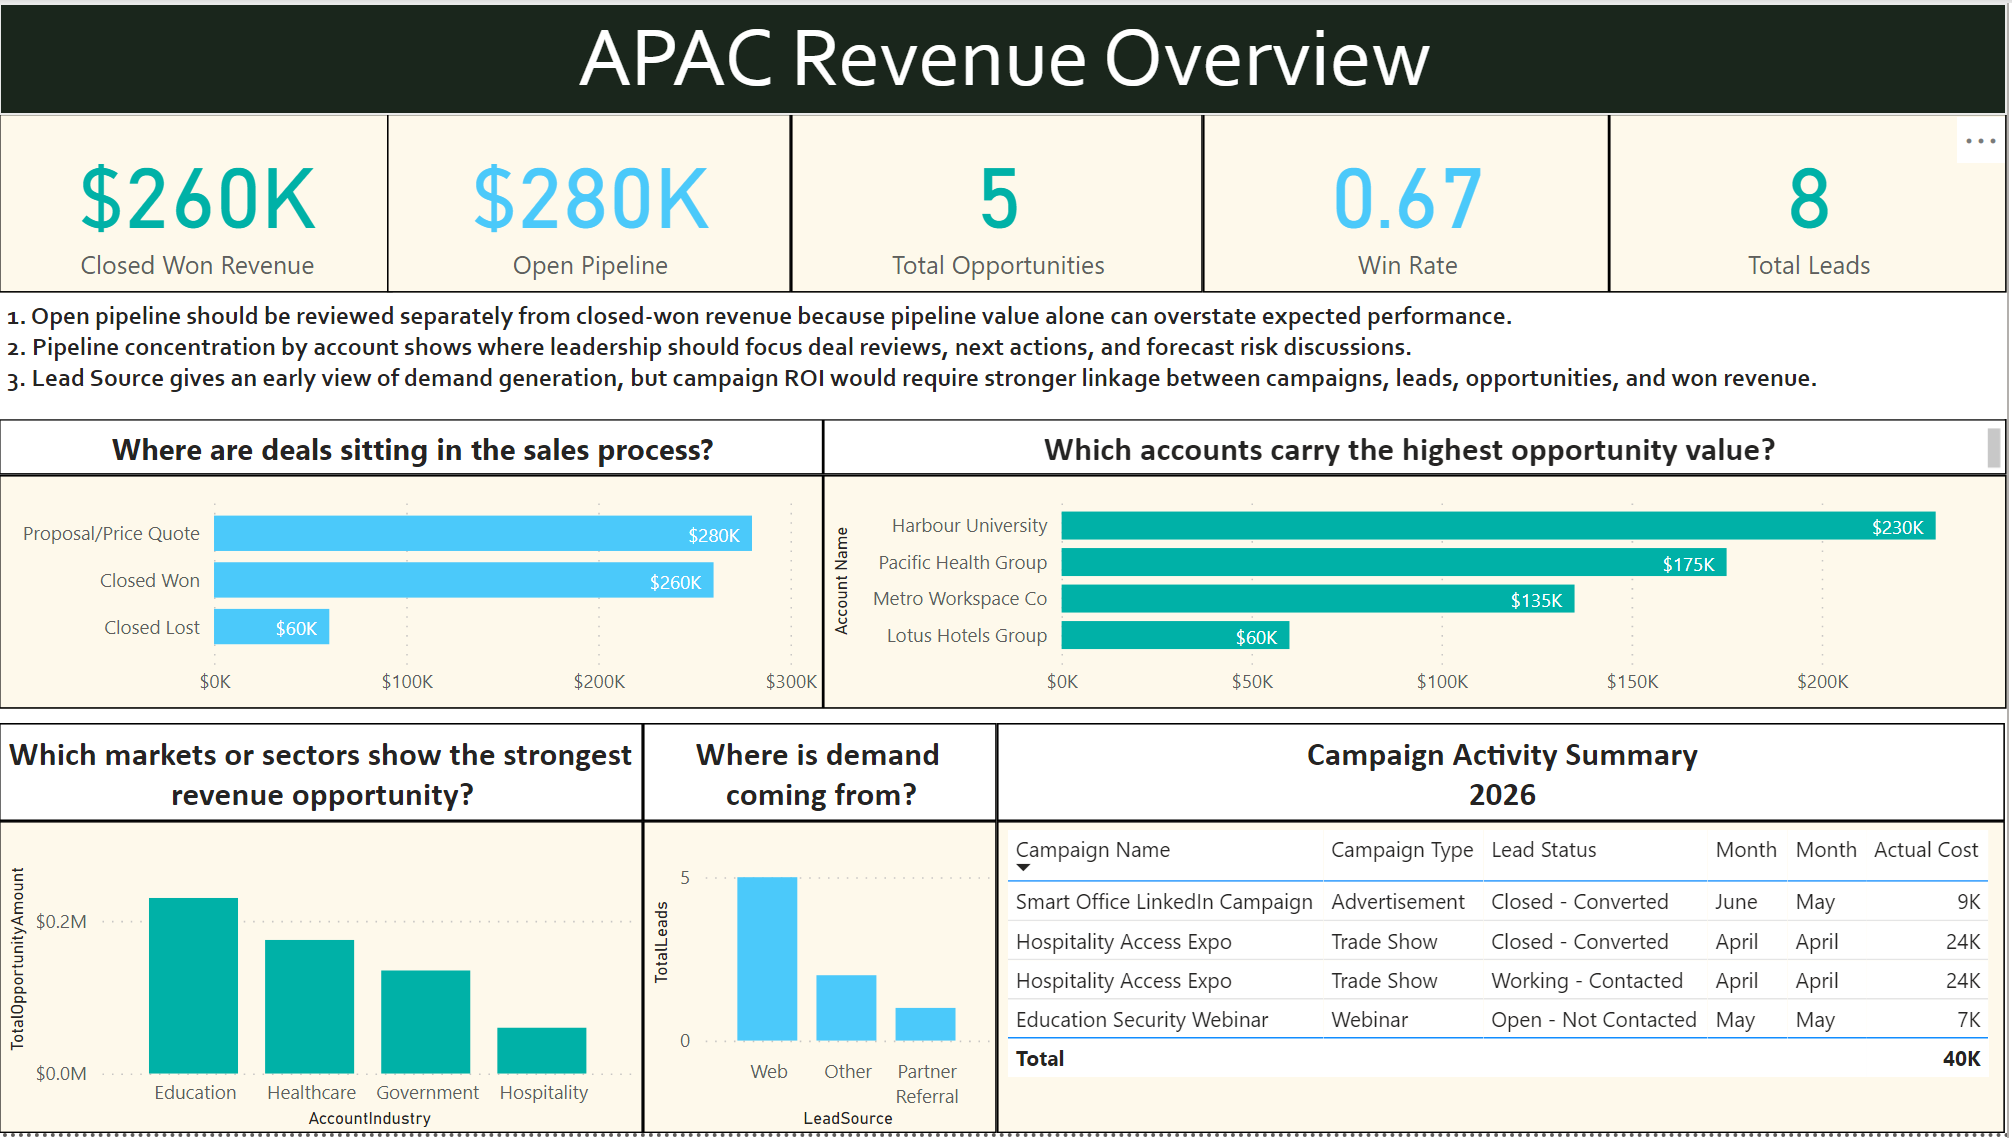

Layout of this report page (visuals, bound fields, positions):
{"tool":"powerbi","page":{"name":"APAC Revenue Overview","canvas":[1280,720],"ordinal":0},"visuals":[{"type":"card","fields":{"Values":["Table.ClosedWonRevenue"]},"box":[0,69.5,251.2,114.7],"z":0},{"type":"card","title":"Win Rate","fields":{"Values":["Table.WinRate"]},"box":[767.5,69.5,258.8,114.7],"z":1000},{"type":"card","fields":{"Values":["Table.TotalLeads"]},"box":[1026.3,69.5,253.7,114.7],"z":2000},{"type":"card","fields":{"Values":["Table.OpenPipeline"]},"box":[247.3,69.5,257.5,114.7],"z":3000},{"type":"card","fields":{"Values":["Table.TotalOpportunities"]},"box":[504.9,69.5,262.6,114.7],"z":4000},{"type":"barChart","fields":{"Category":["Opportunities.Stage"],"Y":["Table.TotalOpportunityAmount"]},"box":[0,300.6,525.3,149.2],"z":5000},{"type":"textbox","title":"APAC Revenue Overview","box":[0,0,1280,71.4],"z":6000},{"type":"textbox","box":[0,264.9,525.3,35.7],"z":7000},{"type":"barChart","fields":{"Y":["Table.TotalOpportunityAmount"],"Category":["Accounts.AccountDisplayName"]},"box":[525.3,300.6,754.7,149.2],"z":7001},{"type":"textbox","box":[525.3,264.9,754.7,35.7],"z":7002},{"type":"columnChart","fields":{"Category":["Accounts.AccountIndustry"],"Y":["Table.TotalOpportunityAmount"]},"box":[0,521.1,410.5,198.9],"z":7003},{"type":"textbox","box":[0,458.6,410.5,62.5],"z":7004},{"type":"columnChart","fields":{"Category":["Leads.LeadSource"],"Y":["Table.TotalLeads"]},"box":[410.5,521.1,225.7,198.9],"z":7005},{"type":"textbox","box":[410.5,458.6,225.7,62.5],"z":7006},{"type":"tableEx","fields":{"Values":["Campaigns.CampaignDisplayName","Campaigns.CampaignType","Leads.LeadStatus","Campaigns.EndDate.Variation.Date Hierarchy.Month","Campaigns.StartDate.Variation.Date Hierarchy.Month","Sum(Campaigns.ActualCost)"]},"box":[636.2,521.1,642.5,198.9],"z":7007},{"type":"textbox","box":[636.2,458.6,642.5,62.5],"z":7008},{"type":"textbox","box":[0,184.9,1278.7,80.3],"z":7009}]}

Visuals, with their boxes in screenshot pixels (x1, y1, x2, y2), scaled from the page's 1280x720 canvas onto the 2012x1138 screenshot:
card - Table.ClosedWonRevenue: (0,110,395,291)
"Win Rate" card: (1206,110,1613,291)
card - Table.TotalLeads: (1613,110,2011,291)
card - Table.OpenPipeline: (389,110,793,291)
card - Table.TotalOpportunities: (794,110,1206,291)
barChart - Opportunities.Stage x Table.TotalOpportunityAmount: (0,475,826,711)
"APAC Revenue Overview" textbox: (0,0,2011,113)
textbox: (0,419,826,475)
barChart - Table.TotalOpportunityAmount x Accounts.AccountDisplayName: (826,475,2011,711)
textbox: (826,419,2011,475)
columnChart - Accounts.AccountIndustry x Table.TotalOpportunityAmount: (0,824,645,1137)
textbox: (0,725,645,824)
columnChart - Leads.LeadSource x Table.TotalLeads: (645,824,1000,1137)
textbox: (645,725,1000,824)
tableEx - Campaigns.CampaignDisplayName x Campaigns.CampaignType: (1000,824,2010,1137)
textbox: (1000,725,2010,824)
textbox: (0,292,2010,419)
